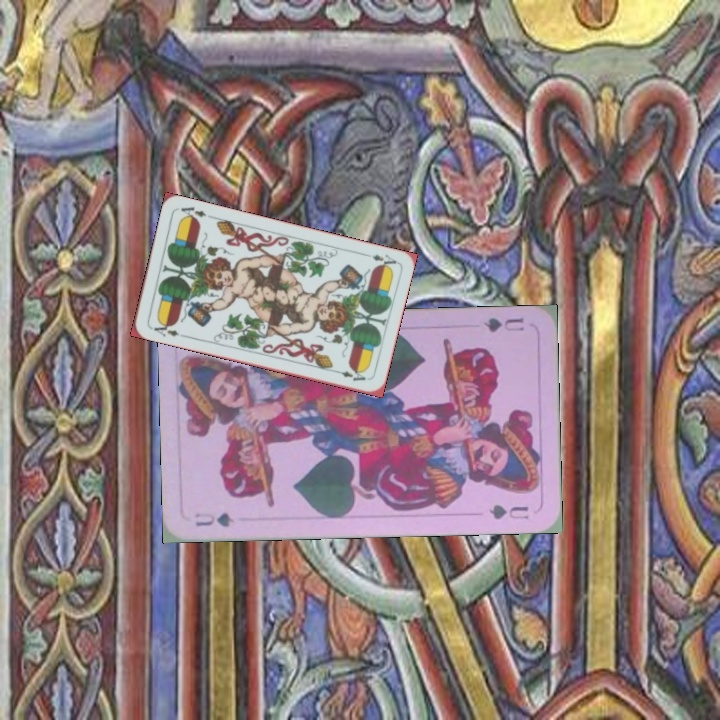EA: (359, 249, 399, 271), (147, 318, 182, 340)
GU: (479, 313, 526, 335), (191, 508, 237, 530)
